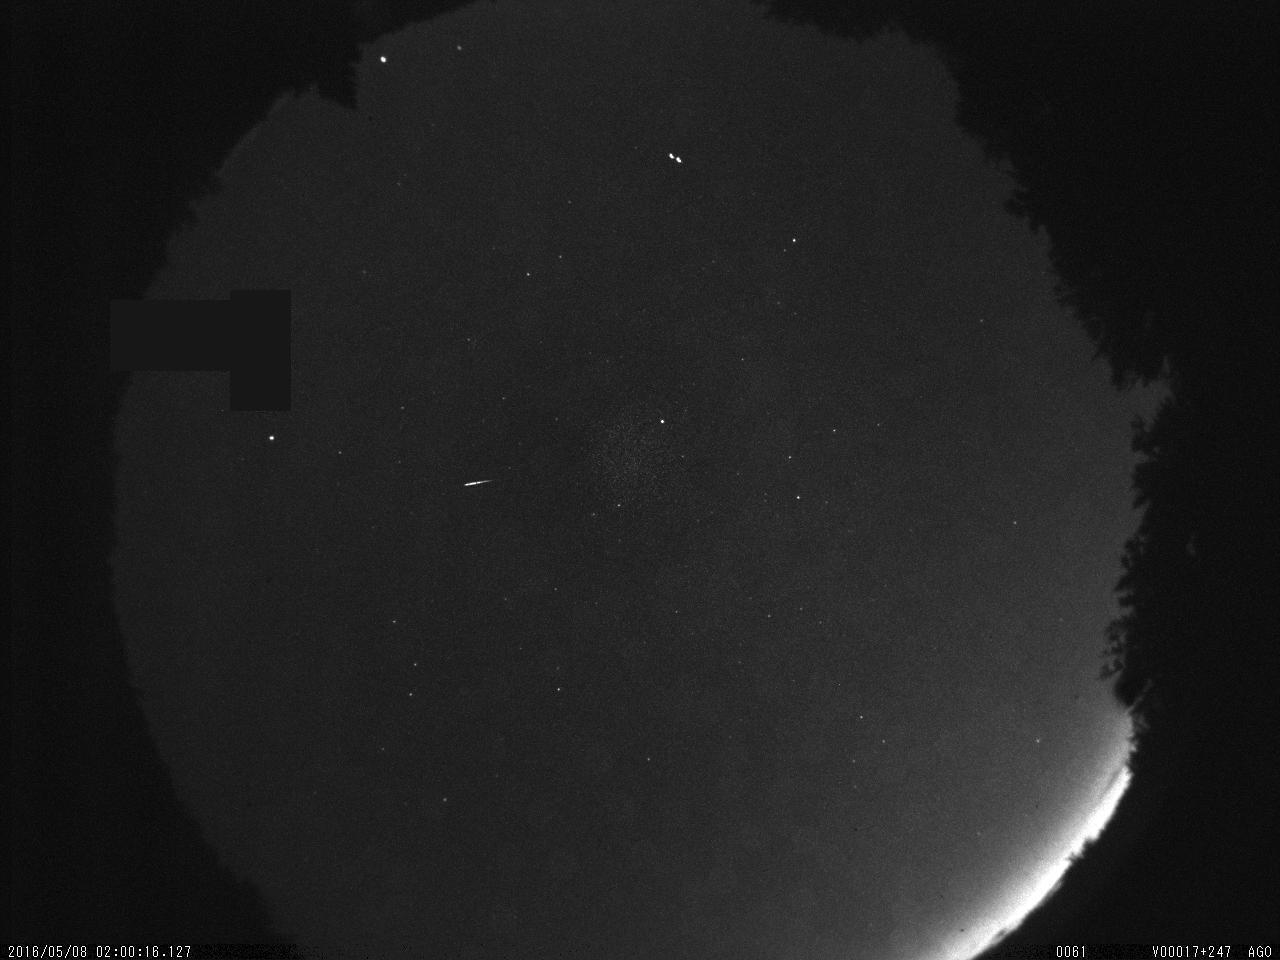Meteor: (462, 477, 494, 488)
